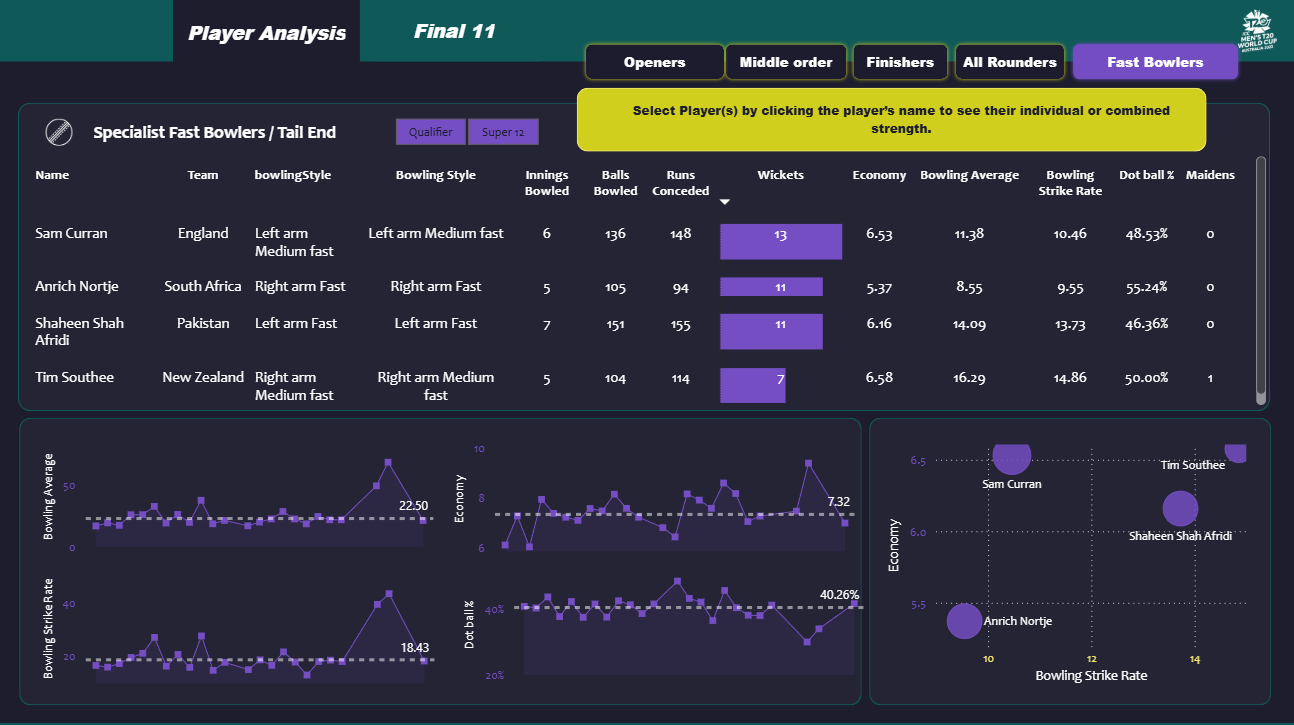

Layout of this report page (visuals, bound fields, positions):
{"tool":"powerbi","page":{"name":"Fast Bowlers ","canvas":[1280,720],"ordinal":4},"visuals":[{"type":"shape","box":[0,62,1280.4,653.3],"z":0},{"type":"group","id":"g1","title":"Group 2","box":[83.8,116.2,260,31.2],"z":0,"group":"g2"},{"type":"shape","box":[83.8,116.2,260,31.2],"z":0,"group":"g1"},{"type":"image","box":[38,114,44,36],"z":1000,"group":"g2"},{"type":"shape","box":[21,414,832,284],"z":1000},{"type":"actionButton","title":"Button Anchores","box":[715.2,40.2,127.2,42.4],"z":2000},{"type":"actionButton","title":"Button  Power Hitters","box":[576.1,40.2,144.6,42.4],"z":3000},{"type":"card","fields":{"Values":["Key_Measures.Bowling Strike Rate"]},"box":[867,89,93,60],"z":3500,"group":"g3"},{"type":"actionButton","title":"Button Finishers","box":[841.3,40.2,101.1,42.4],"z":4000},{"type":"card","fields":{"Values":["Key_Measures.Bowling Average"]},"box":[768,89,92,60],"z":4000,"group":"g3"},{"type":"card","fields":{"Values":["Key_Measures.Dot ball %"]},"box":[1073,89,100,60],"z":4500,"group":"g3"},{"type":"actionButton","title":"Button All Rounders","box":[942.4,40.2,115.2,42.4],"z":5000},{"type":"card","fields":{"Values":["Key_Measures.Economy"]},"box":[966,89,101,60],"z":5000,"group":"g3"},{"type":"actionButton","title":"Button Fast Bowler selected","box":[1057.6,40.2,170.7,42.4],"z":6000},{"type":"image","box":[1220,3,48,59],"z":7000},{"type":"shape","box":[860,414,397,284],"z":9000},{"type":"shape","box":[20,102.2,1236.7,304.4],"z":10000},{"type":"slicer","fields":{"Values":["dim_match_summary.stage"]},"box":[366.7,111.1,191.1,38.9],"z":11000},{"type":"tableEx","fields":{"Values":["dim_player.name","Min(dim_player.team)","dim_player.bowlingStyle","Min(dim_player.Bowling Style)","Key_Measures.Total Innings Bowled","Key_Measures.Balls Bowled","Key_Measures.Runs Conceded","Key_Measures.wickets","Key_Measures.Economy","Key_Measures.Bowling Average","Key_Measures.Bowling Strike Rate","Key_Measures.Dot ball %"]},"box":[26,151,1231,255],"z":12000},{"type":"shape","box":[572,88,622,63],"z":13000},{"type":"group","id":"g2","title":"Group 1","box":[38,114,305.8,36],"z":15000},{"type":"scatterChart","fields":{"Category":["dim_player.name"],"X":["Key_Measures.Bowling Strike Rate"],"Y":["Key_Measures.Economy"],"Size":["Key_Measures.wickets"]},"box":[874,427,370,253.8],"z":16000},{"type":"actionButton","title":"Button Player Ana selected","box":[172.5,0,184.6,66.4],"z":17000},{"type":"actionButton","title":"Button Player Ana selected","box":[366.3,0,167.4,62],"z":18000},{"type":"areaChart","fields":{"Category":["dim_match_summary.Match_Date.Variation.Date Hierarchy.Day"],"Y":["Key_Measures.Economy"]},"box":[446,430,406,126],"z":19000},{"type":"areaChart","fields":{"Category":["dim_match_summary.Match_Date.Variation.Date Hierarchy.Day"],"Y":["Key_Measures.Dot ball %"]},"box":[456,556.2,405.4,125.5],"z":20000},{"type":"areaChart","fields":{"Category":["dim_match_summary.Match_Date.Variation.Date Hierarchy.Day"],"Y":["Key_Measures.Bowling Average"]},"box":[40,428.9,395.6,126.7],"z":21000},{"type":"areaChart","fields":{"Category":["dim_match_summary.Match_Date.Variation.Date Hierarchy.Day"],"Y":["Key_Measures.Bowling Strike Rate"]},"box":[40,555.6,396.7,125.6],"z":22000},{"type":"shape","box":[595,103,173,34],"z":25000},{"type":"group","id":"g3","title":"Combined Perfoamce Metrices","box":[768,89,405,60],"z":25500},{"type":"shape","box":[612,100,560,36],"z":26001}]}

Visuals, with their boxes in screenshot pixels (x1, y1, x2, y2), scaled from the page's 1280x720 canvas onto the 1294x725 screenshot:
shape: 0,62,1293,720
"Group 2" group: 85,117,348,148
shape: 85,117,348,148
image: 38,115,83,151
shape: 21,417,862,703
"Button Anchores" actionButton: 723,40,852,83
"Button  Power Hitters" actionButton: 582,40,729,83
card - Key_Measures.Bowling Strike Rate: 876,90,970,150
"Button Finishers" actionButton: 851,40,953,83
card - Key_Measures.Bowling Average: 776,90,869,150
card - Key_Measures.Dot ball %: 1085,90,1186,150
"Button All Rounders" actionButton: 953,40,1069,83
card - Key_Measures.Economy: 977,90,1079,150
"Button Fast Bowler selected" actionButton: 1069,40,1242,83
image: 1233,3,1282,62
shape: 869,417,1271,703
shape: 20,103,1270,409
slicer - dim_match_summary.stage: 371,112,564,151
tableEx - dim_player.name x Min(dim_player.team): 26,152,1271,409
shape: 578,89,1207,152
"Group 1" group: 38,115,348,151
scatterChart - dim_player.name x Key_Measures.Bowling Strike Rate: 884,430,1258,686
"Button Player Ana selected" actionButton: 174,0,361,67
"Button Player Ana selected" actionButton: 370,0,540,62
areaChart - dim_match_summary.Match_Date.Variation.Date Hierarchy.Day x Key_Measures.Economy: 451,433,861,560
areaChart - dim_match_summary.Match_Date.Variation.Date Hierarchy.Day x Key_Measures.Dot ball %: 461,560,871,686
areaChart - dim_match_summary.Match_Date.Variation.Date Hierarchy.Day x Key_Measures.Bowling Average: 40,432,440,559
areaChart - dim_match_summary.Match_Date.Variation.Date Hierarchy.Day x Key_Measures.Bowling Strike Rate: 40,559,441,686
shape: 602,104,776,138
"Combined Perfoamce Metrices" group: 776,90,1186,150
shape: 619,101,1185,137
